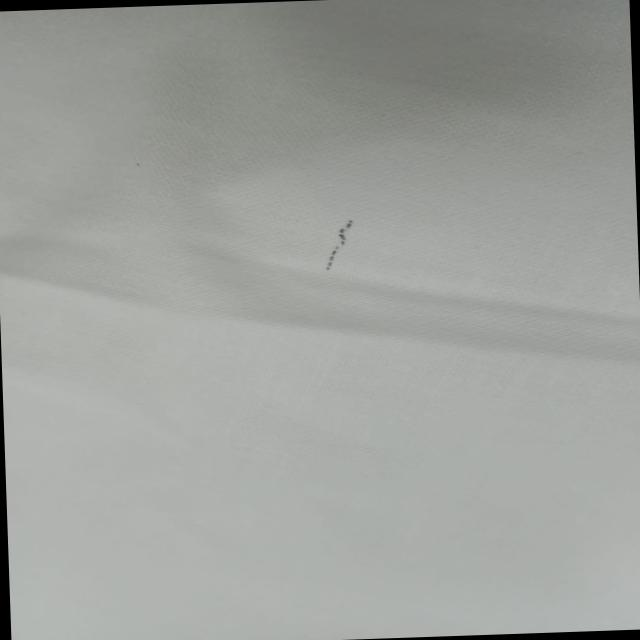contamination: (323, 208, 358, 276)
